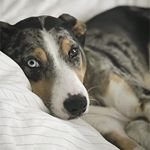puppy: (1, 12, 99, 125)
